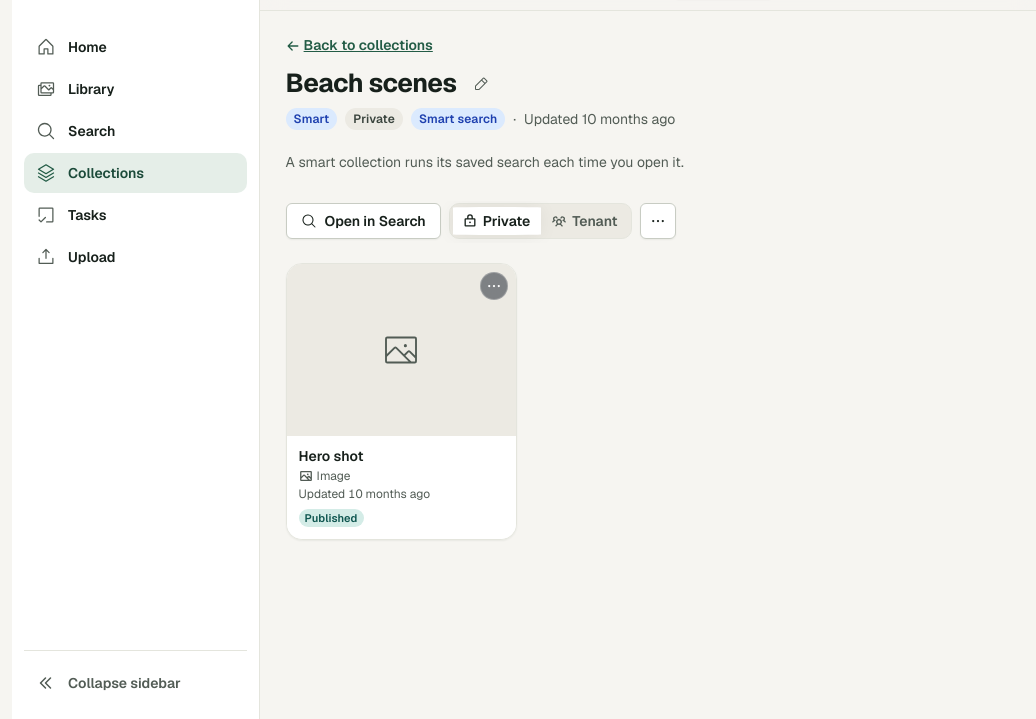
Test: saved searches in the console › opens a Smart saved search in Search with the Smart toggle on and the saved words and filters
Expected: the text "Smart search" is shown, [411, 108, 505, 130]
Click the link "Open in Search": (363, 221) [286, 203, 441, 239]
(page scrolled)
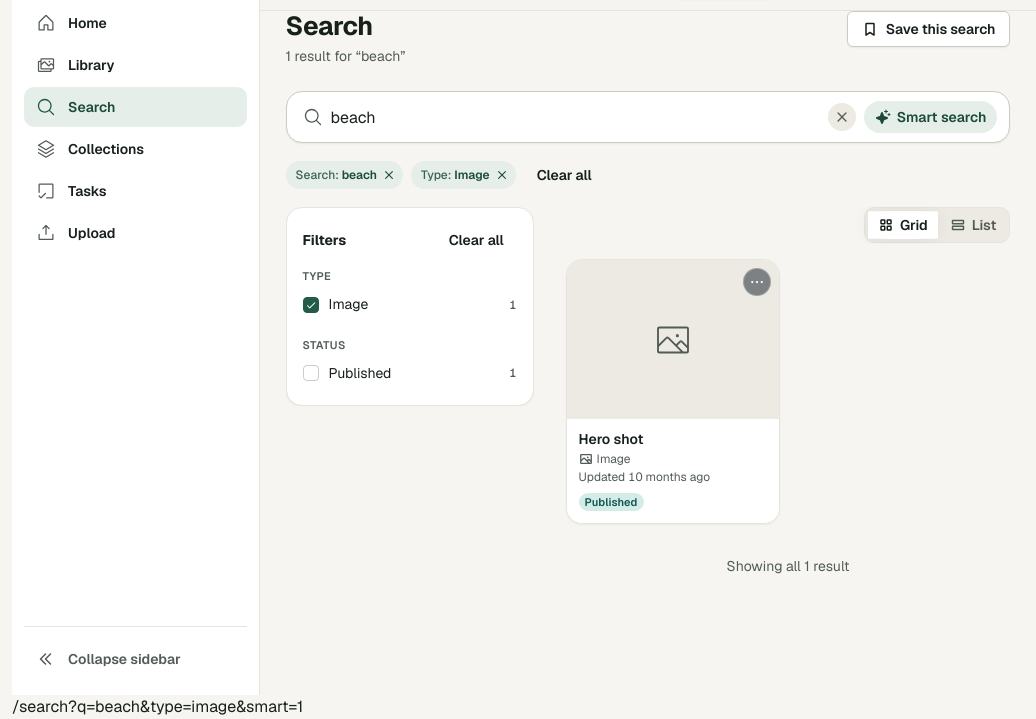
Expected: the switch labelled "Smart search" is checked, [864, 101, 997, 133]
Now the text with test id "location" reads "/search?q=beach&type=image&smart=1", box [12, 696, 303, 717]
